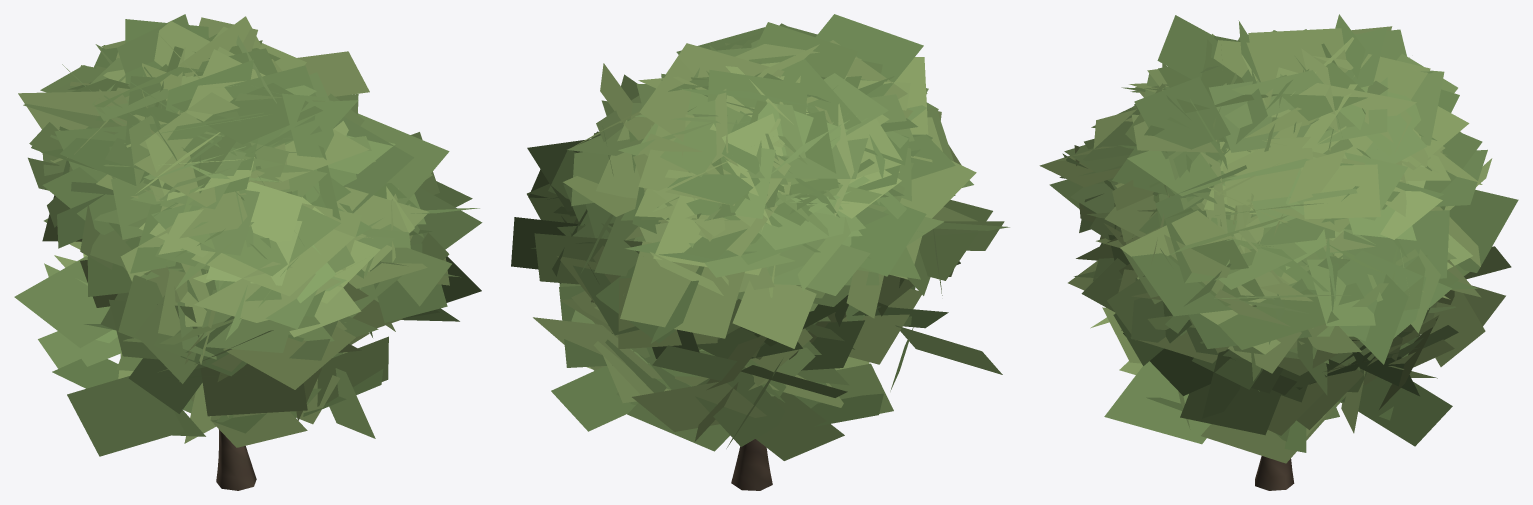
Rendered from columnar_1.glb.
3 renders of one model, left to right at view 1: azimuth 30°, elevation 25°; view 2: azimuth 150°, elevation 25°; view 3: azimuth 270°, elevation 25°, orthographic. The views are drawn at different scales.
Parts seen in each view (by area): view 1: columnar_1; view 2: columnar_1; view 3: columnar_1.
Boxes of the visible parts, x1=… form: columnar_1: x1=14, y1=14, x2=482, y2=490; columnar_1: x1=511, y1=14, x2=1009, y2=490; columnar_1: x1=1039, y1=14, x2=1518, y2=490.
Size of the model in its own units: 0.9933 by 1 by 1.
